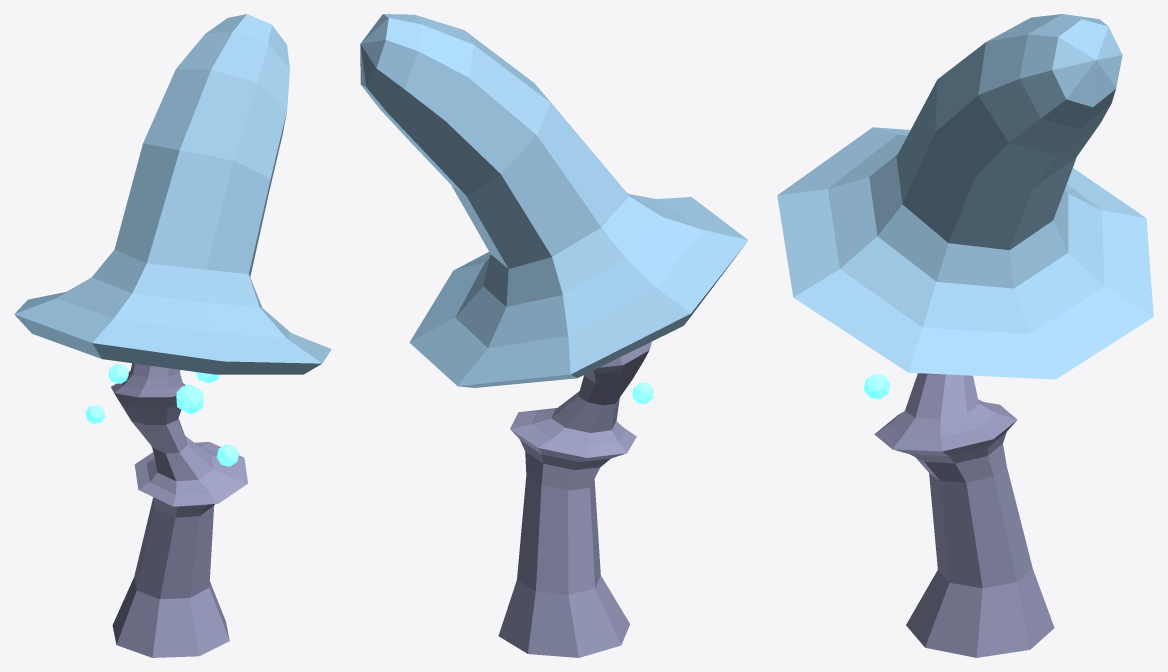
File: Tree_09_Var_05.fbx
The picture shows the model from 3 angles, left to right: view 1: azimuth 30°, elevation 25°; view 2: azimuth 150°, elevation 25°; view 3: azimuth 270°, elevation 25°; orthographic projection. The views are drawn at different scales.
Visible parts, largest first — view 1: Tree_09_Var_05; view 2: Tree_09_Var_05; view 3: Tree_09_Var_05.
Boxes of the visible parts, <box> form: Tree_09_Var_05: <box>14,14,331,657</box>; Tree_09_Var_05: <box>360,14,748,657</box>; Tree_09_Var_05: <box>777,14,1153,657</box>.
Bounding box in the file's own units: 1.83 × 3.63 × 1.93.
